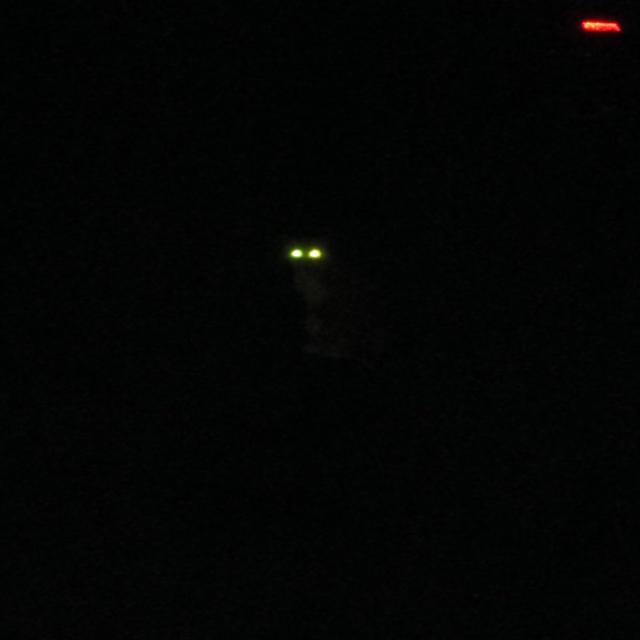Cat: (270, 220, 393, 371)
